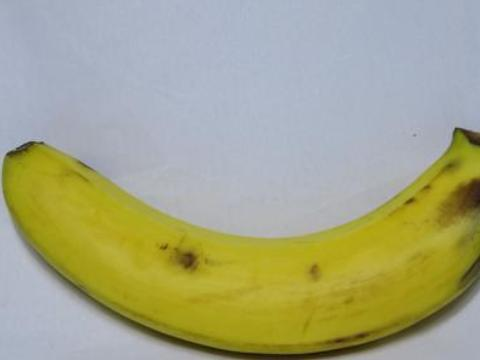freshripe: (0, 102, 479, 359)
